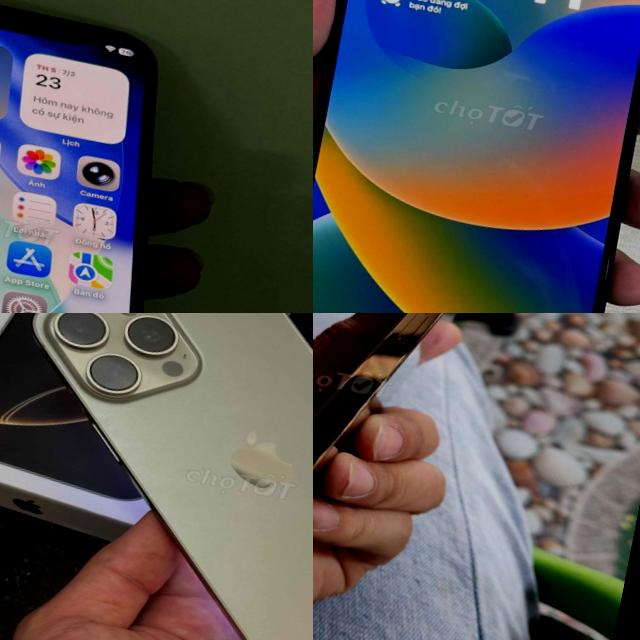gen_12_13: (313, 313, 528, 640), (0, 0, 214, 313)
gen_15: (313, 0, 640, 313)
gen_16: (33, 313, 313, 640)
